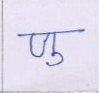u_matra: (47, 52, 64, 67)
